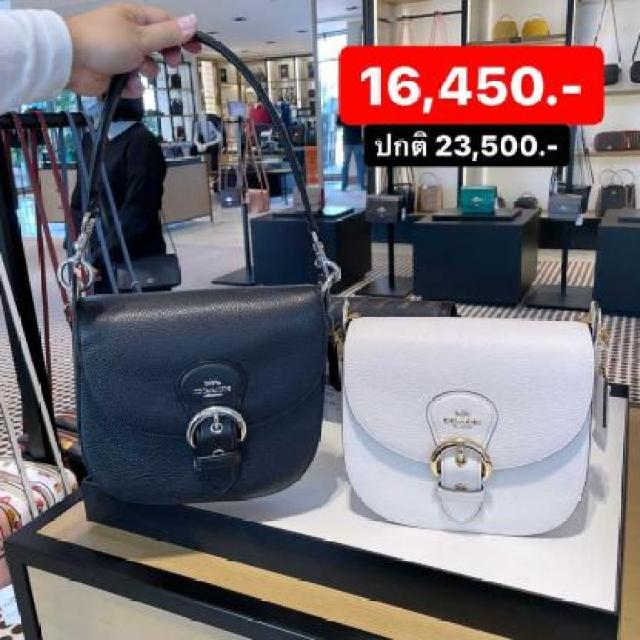Bag: (73, 31, 352, 512), (336, 273, 604, 558)
